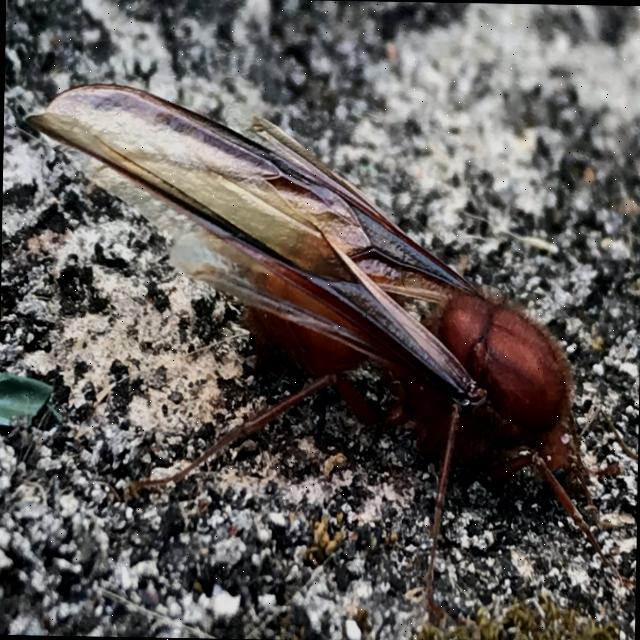Alive-Male-Alate: (13, 80, 640, 624)
